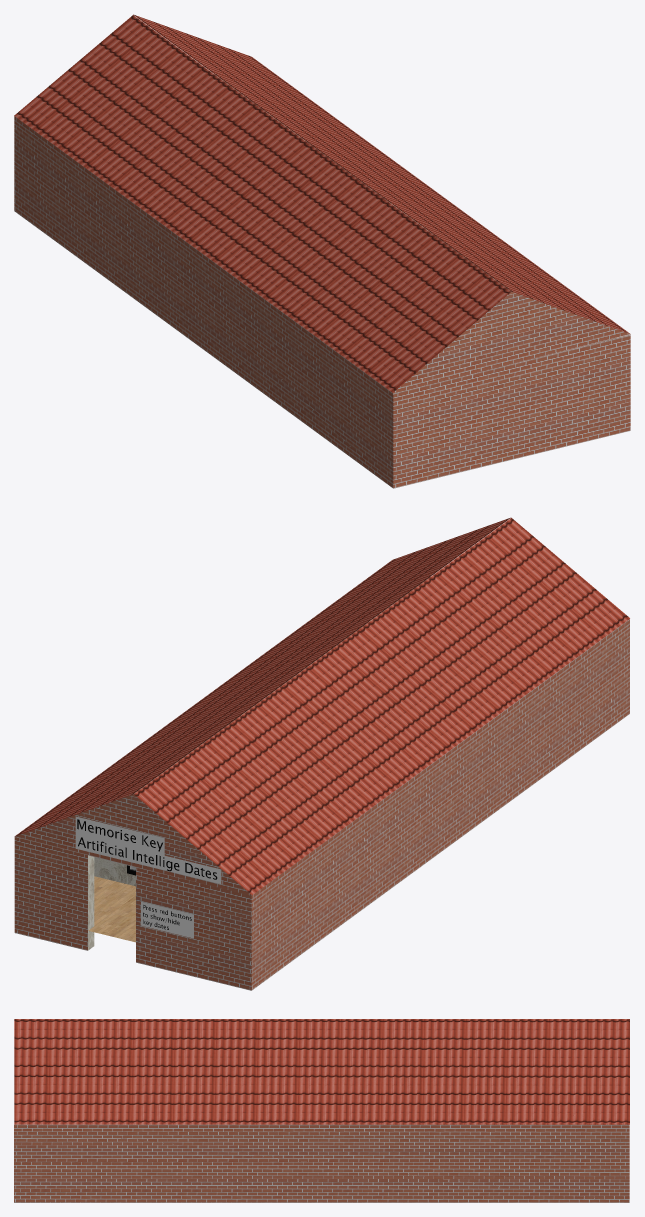
Rendered from walls_131.gltf.
The picture shows the model from 3 angles, top to bottom: view 1: azimuth 30°, elevation 25°; view 2: azimuth 150°, elevation 25°; view 3: azimuth 270°, elevation 25°; orthographic projection. The views are drawn at different scales.
Visible parts, largest first — view 1: polySurface4270; view 2: polySurface4270, pCube268, polySurface4232, walls_121, pCube269, typeMesh46; view 3: polySurface4270.
Part boxes in pixels (x1,y1,x2,y2): polySurface4270: (14, 14, 630, 488); polySurface4270: (14, 517, 629, 990); pCube268: (75, 816, 221, 883); polySurface4232: (88, 876, 135, 942); walls_121: (88, 577, 429, 950); pCube269: (141, 901, 193, 938); typeMesh46: (77, 819, 217, 879); polySurface4270: (14, 1019, 629, 1202).
Size of what is drawn, in the model's own units: 15.79 by 10.69 by 43.48.
Materials: 15 (11 with a texture image).
